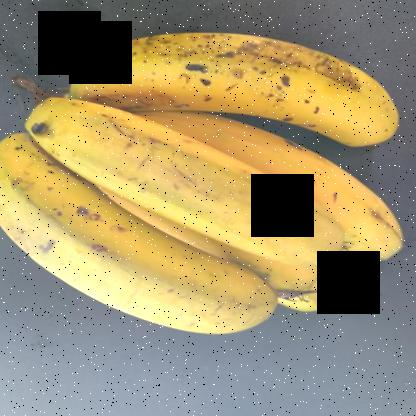ripe: (15, 99, 379, 274), (1, 137, 252, 333), (49, 24, 403, 114)
